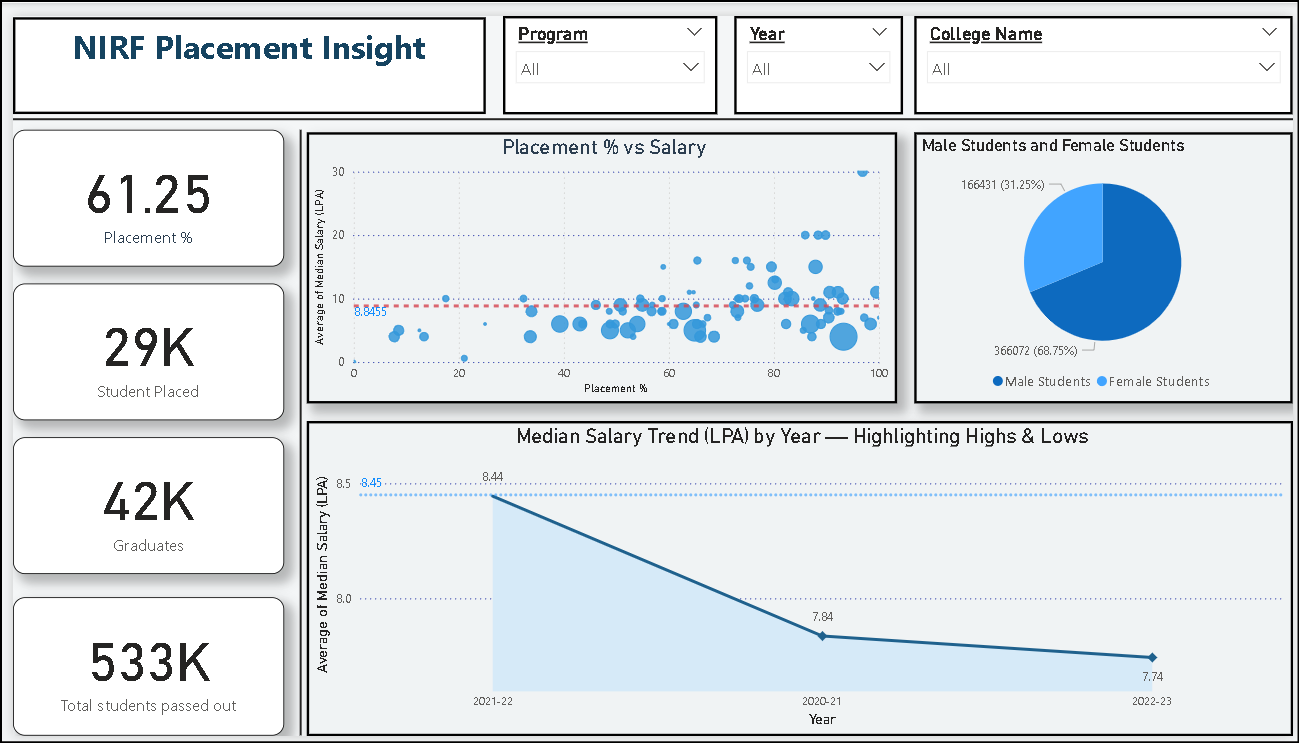

Layout of this report page (visuals, bound fields, positions):
{"tool":"powerbi","page":{"name":"Dashboard","canvas":[1280,720],"ordinal":1},"visuals":[{"type":"card","fields":{"Values":["Sum(Main_table.Total Students)","select"]},"box":[0,581.4,271.4,138.6],"z":0},{"type":"card","fields":{"Values":["Sum(Main_table.Placed)"]},"box":[0,267.1,271.4,137.1],"z":1000},{"type":"card","title":"Placement %","fields":{"Values":["Avg(Main_table.Placement %)"]},"box":[0,114.3,271.4,137.1],"z":2000},{"type":"card","fields":{"Values":["Main_table.Valid Graduates","select"]},"box":[0,421.4,271.4,137.1],"z":3000},{"type":"slicer","fields":{"Values":["Main_table.Program"]},"box":[490,0,214.3,98.6],"z":4000},{"type":"slicer","fields":{"Values":["Main_table.Year"]},"box":[721.4,0,168.6,98.6],"z":5000},{"type":"slicer","title":"All","fields":{"Values":["Main_table.College Name"]},"box":[901.4,0,378.6,98.6],"z":6000},{"type":"textbox","box":[0,1.4,472.9,97.1],"z":7000},{"type":"shape","box":[0,92.9,1280,21.4],"z":8000},{"type":"shape","box":[281.4,114.3,12.9,605.7],"z":9000},{"type":"scatterChart","title":"Placement % vs Salary","fields":{"X":["Main_table.Placement %"],"Y":["Avg(Main_table.Median Salary (LPA))"],"Size":["Sum(Main_table.Graduates)"]},"box":[294.3,115.7,590,271.4],"z":10000},{"type":"pieChart","fields":{"Y":["Sum(Main_table.No. of Male Students)","Sum(Main_table.No. of Female Students)"]},"box":[901.4,115.7,378.6,271.4],"z":11000},{"type":"lineChart","title":"Median Salary Trend (LPA) by Year — Highlighting Highs & Lows","fields":{"Category":["Main_table.Year"],"Y":["Avg(Main_table.Median Salary (LPA))"]},"box":[293.8,405,986.2,315],"z":12000}]}

Visuals, with their boxes in screenshot pixels (x1, y1, x2, y2), scaled from the page's 1280x720 canvas onto the 1299x743 screenshot:
card - Sum(Main_table.Total Students) x select: {"x1": 0, "y1": 600, "x2": 275, "y2": 742}
card - Sum(Main_table.Placed): {"x1": 0, "y1": 276, "x2": 275, "y2": 417}
"Placement %" card: {"x1": 0, "y1": 118, "x2": 275, "y2": 259}
card - Main_table.Valid Graduates x select: {"x1": 0, "y1": 435, "x2": 275, "y2": 576}
slicer - Main_table.Program: {"x1": 497, "y1": 0, "x2": 715, "y2": 102}
slicer - Main_table.Year: {"x1": 732, "y1": 0, "x2": 903, "y2": 102}
"All" slicer: {"x1": 915, "y1": 0, "x2": 1298, "y2": 102}
textbox: {"x1": 0, "y1": 1, "x2": 480, "y2": 102}
shape: {"x1": 0, "y1": 96, "x2": 1298, "y2": 118}
shape: {"x1": 286, "y1": 118, "x2": 299, "y2": 742}
"Placement % vs Salary" scatterChart: {"x1": 299, "y1": 119, "x2": 897, "y2": 399}
pieChart - Sum(Main_table.No. of Male Students) x Sum(Main_table.No. of Female Students): {"x1": 915, "y1": 119, "x2": 1298, "y2": 399}
"Median Salary Trend (LPA) by Year — Highlighting Highs & Lows" lineChart: {"x1": 298, "y1": 418, "x2": 1298, "y2": 742}
